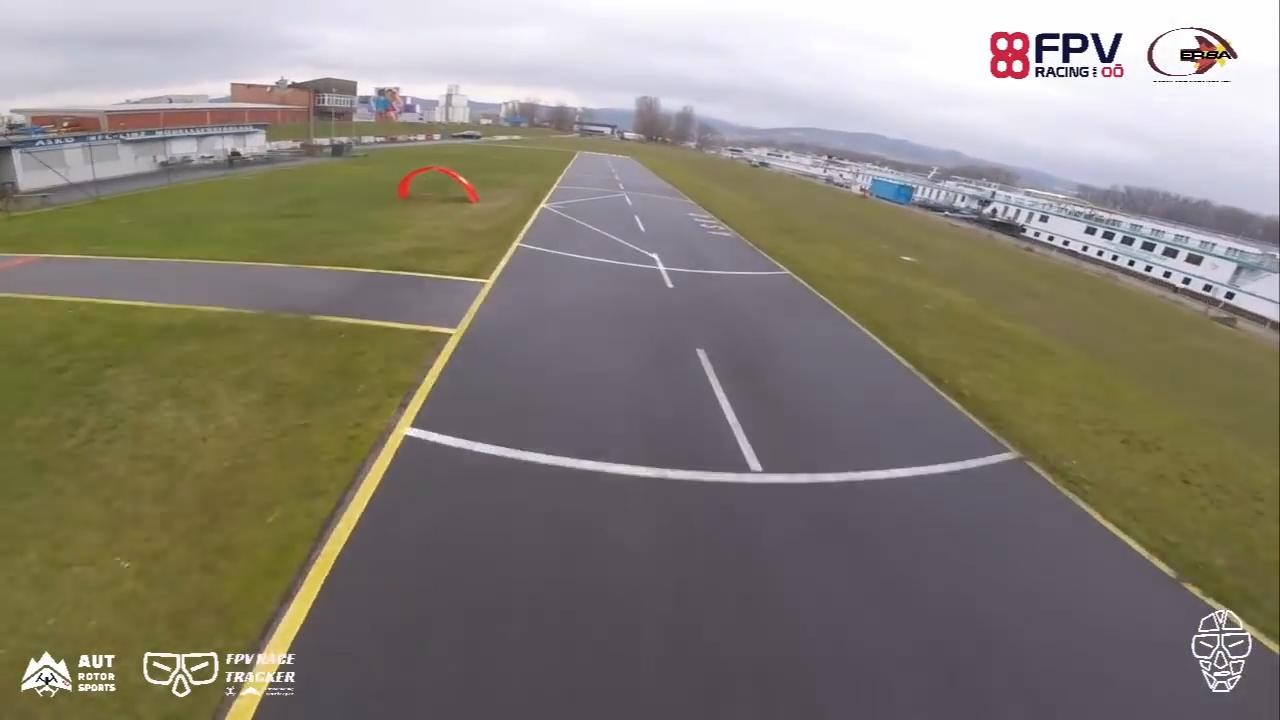gate: (397, 164, 476, 207)
